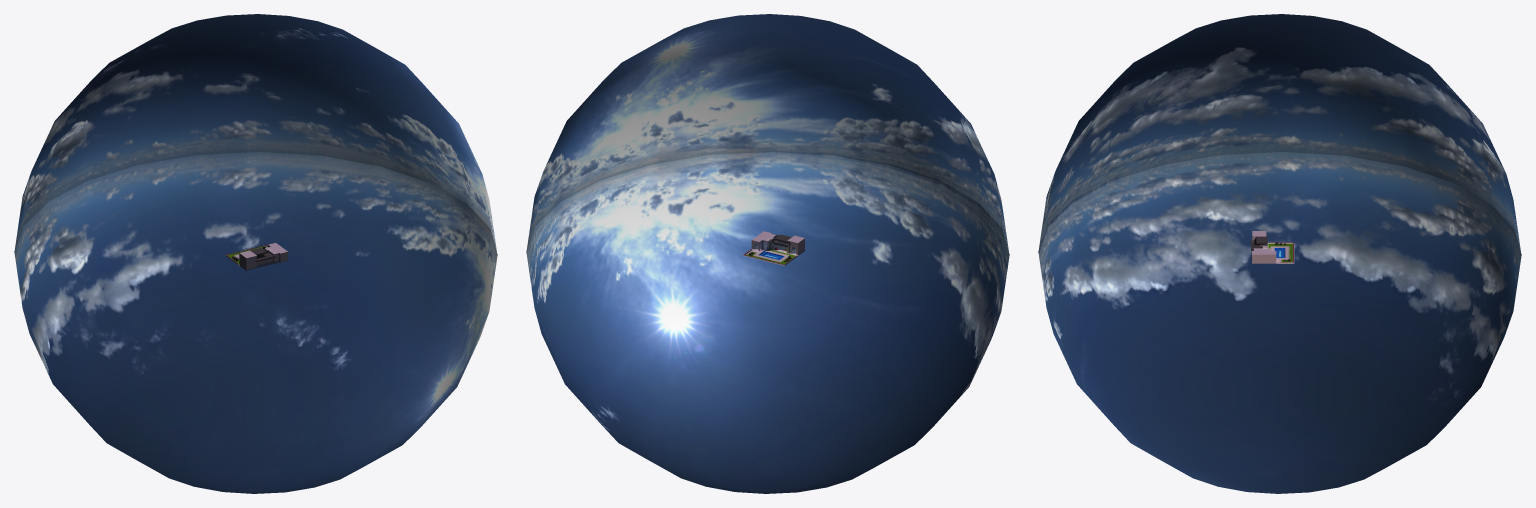
3 views of the same model, side by side, from view 1: azimuth 30°, elevation 25°; view 2: azimuth 150°, elevation 25°; view 3: azimuth 270°, elevation 25° (orthographic).
Parts seen in each view (by area): view 1: EXPORT; view 2: EXPORT; view 3: EXPORT.
Part boxes in pixels (x1,y1,x2,y2): EXPORT: (14, 14, 497, 493); EXPORT: (526, 14, 1009, 493); EXPORT: (1038, 14, 1521, 493).
Bounding box in the file's own units: 900 × 897 × 900.
3 materials, 3 textured.
